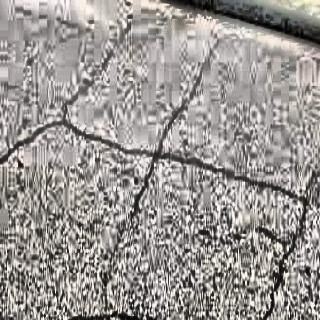crack: (155, 151, 311, 307), (0, 113, 154, 230), (158, 34, 220, 143), (66, 30, 130, 105)
